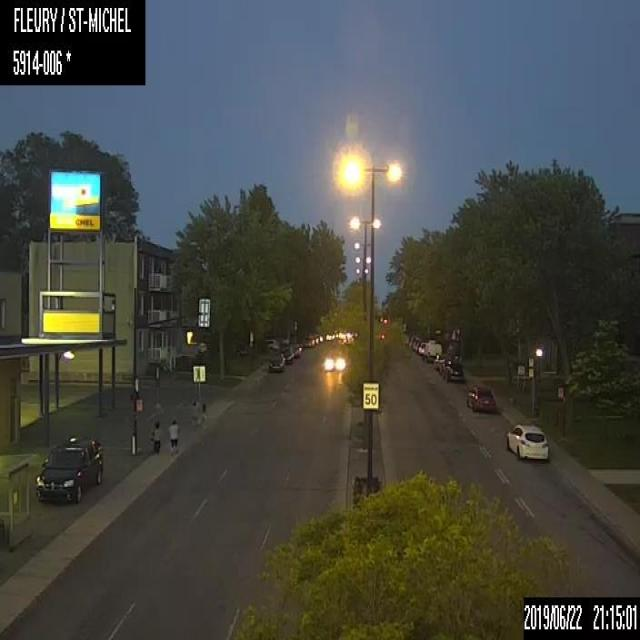pedestrian: (167, 418, 180, 456), (150, 420, 160, 457)
vehicle: (34, 436, 102, 502), (506, 423, 548, 459), (466, 382, 494, 412), (441, 359, 463, 382), (422, 339, 441, 364), (322, 351, 345, 371), (268, 348, 285, 372), (433, 352, 451, 372), (280, 346, 294, 364), (407, 334, 420, 349), (292, 342, 302, 358), (303, 334, 315, 347), (412, 338, 422, 352), (313, 332, 319, 344), (318, 332, 323, 341), (325, 332, 331, 339)
